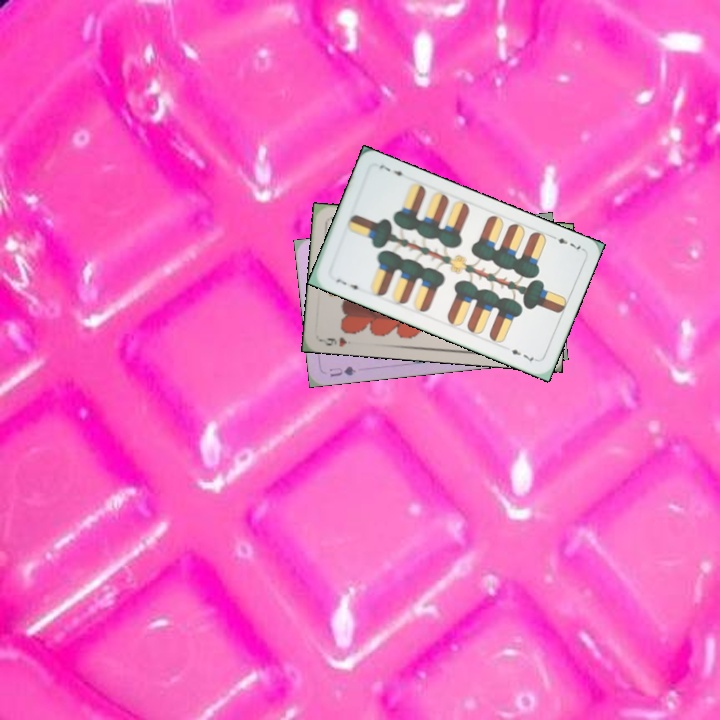E7: (546, 231, 583, 255), (332, 275, 364, 294)
GU: (326, 362, 358, 379)
H9: (318, 333, 349, 349)
